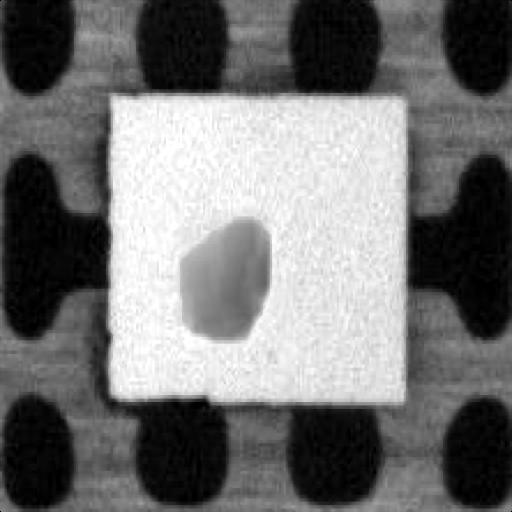DIE_INK: (171, 206, 270, 337)
